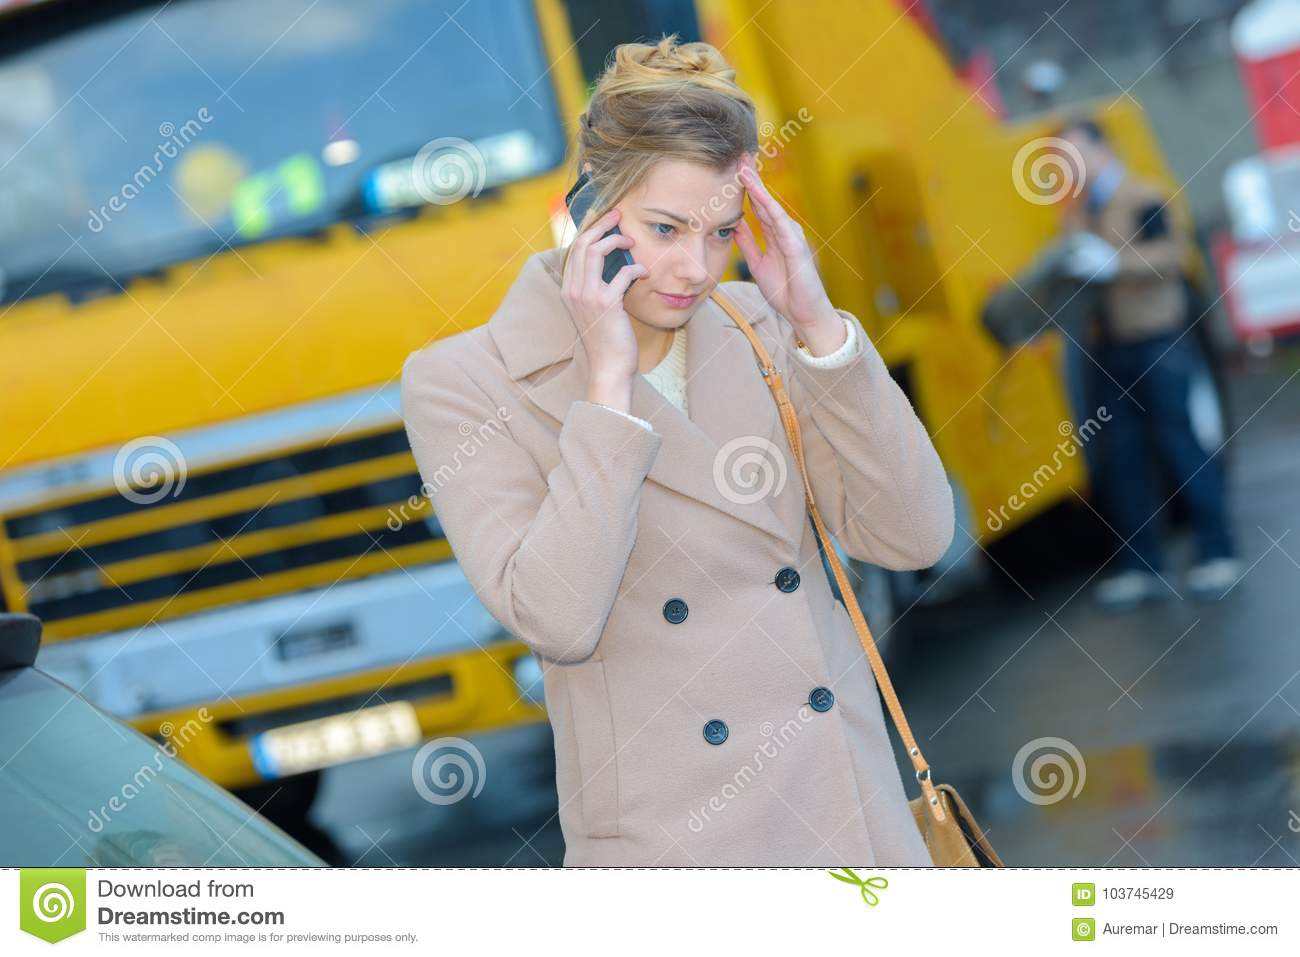phone: (567, 170, 642, 305)
talk: (562, 169, 743, 401)
